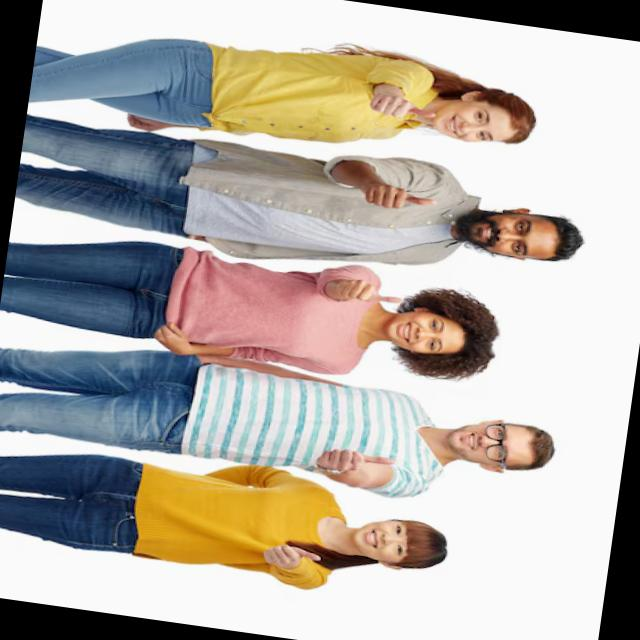Hand: (352, 176, 443, 223), (310, 442, 398, 482), (360, 82, 440, 126), (321, 273, 408, 311), (259, 536, 329, 575)
